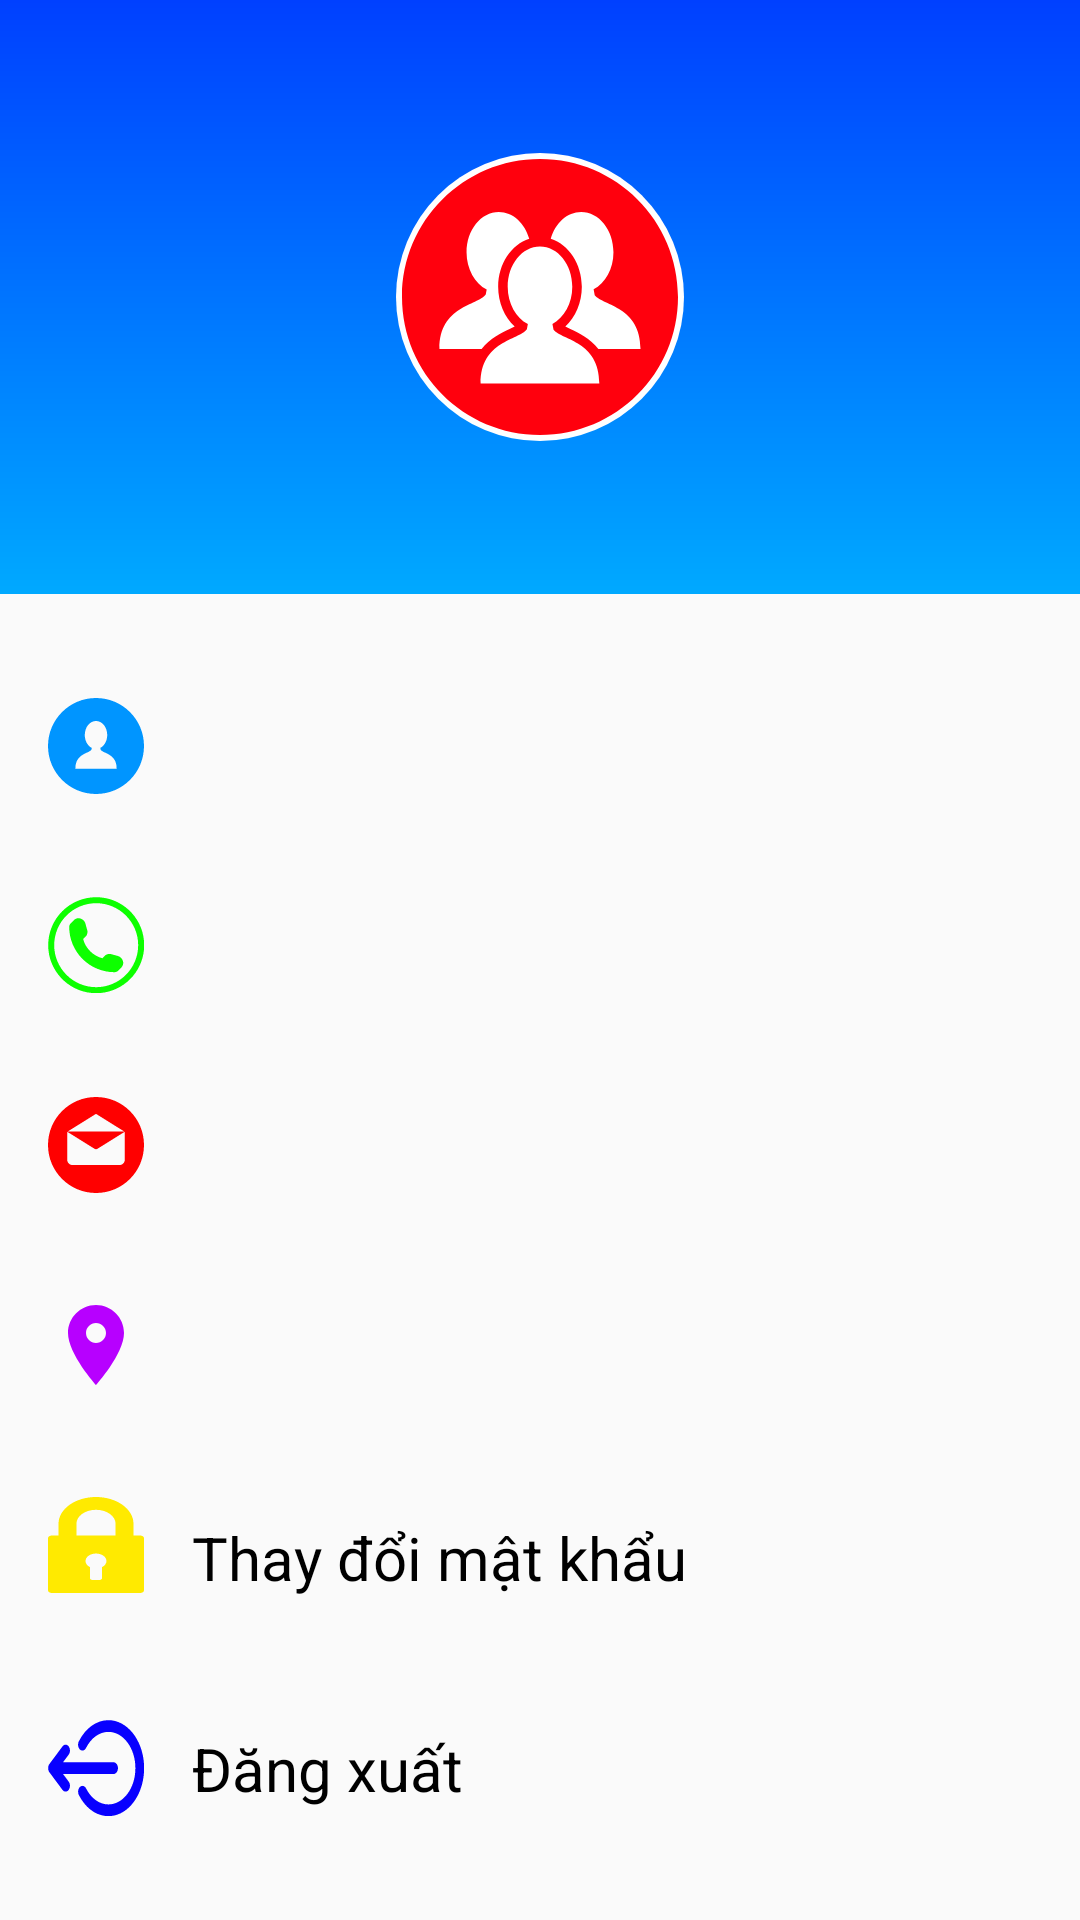

Named icons in this screenshot (1080px x 1920px) and their centers, (x,y):
email: (96,1145)
lock: (96,1545)
phone: (96,945)
place: (96,1345)
user: (96,746)
